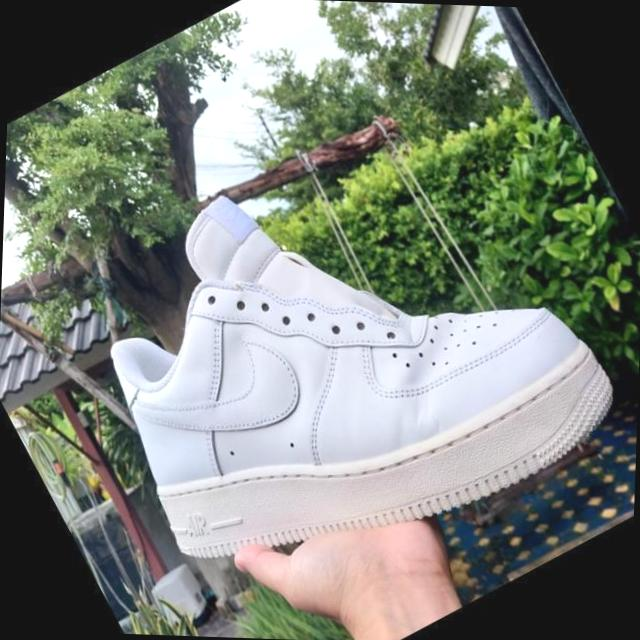nike_original_airforce: (28, 58, 640, 640)
